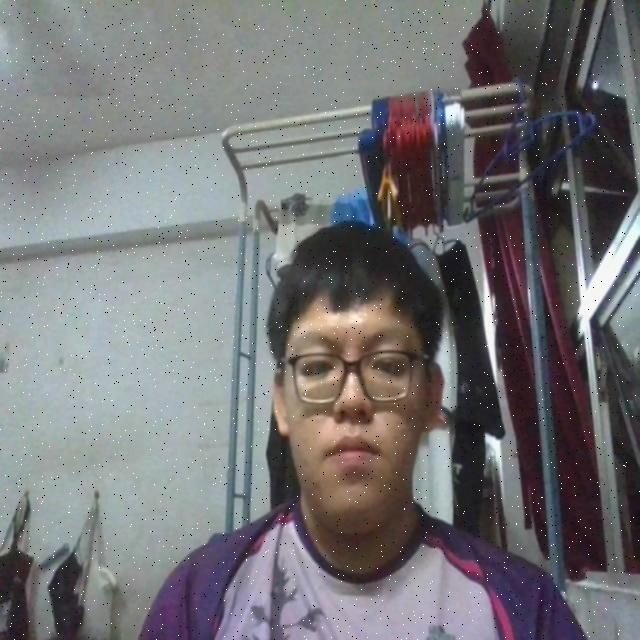person_without_labcoat: (139, 223, 585, 639)
